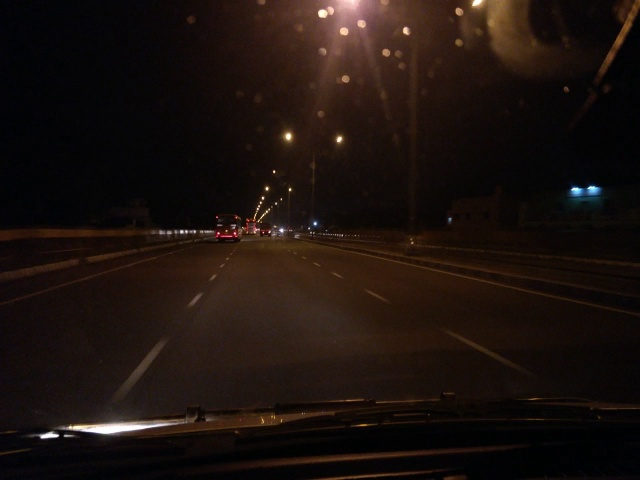bus: (210, 213, 243, 243)
truck: (261, 220, 274, 237), (247, 220, 256, 237)
